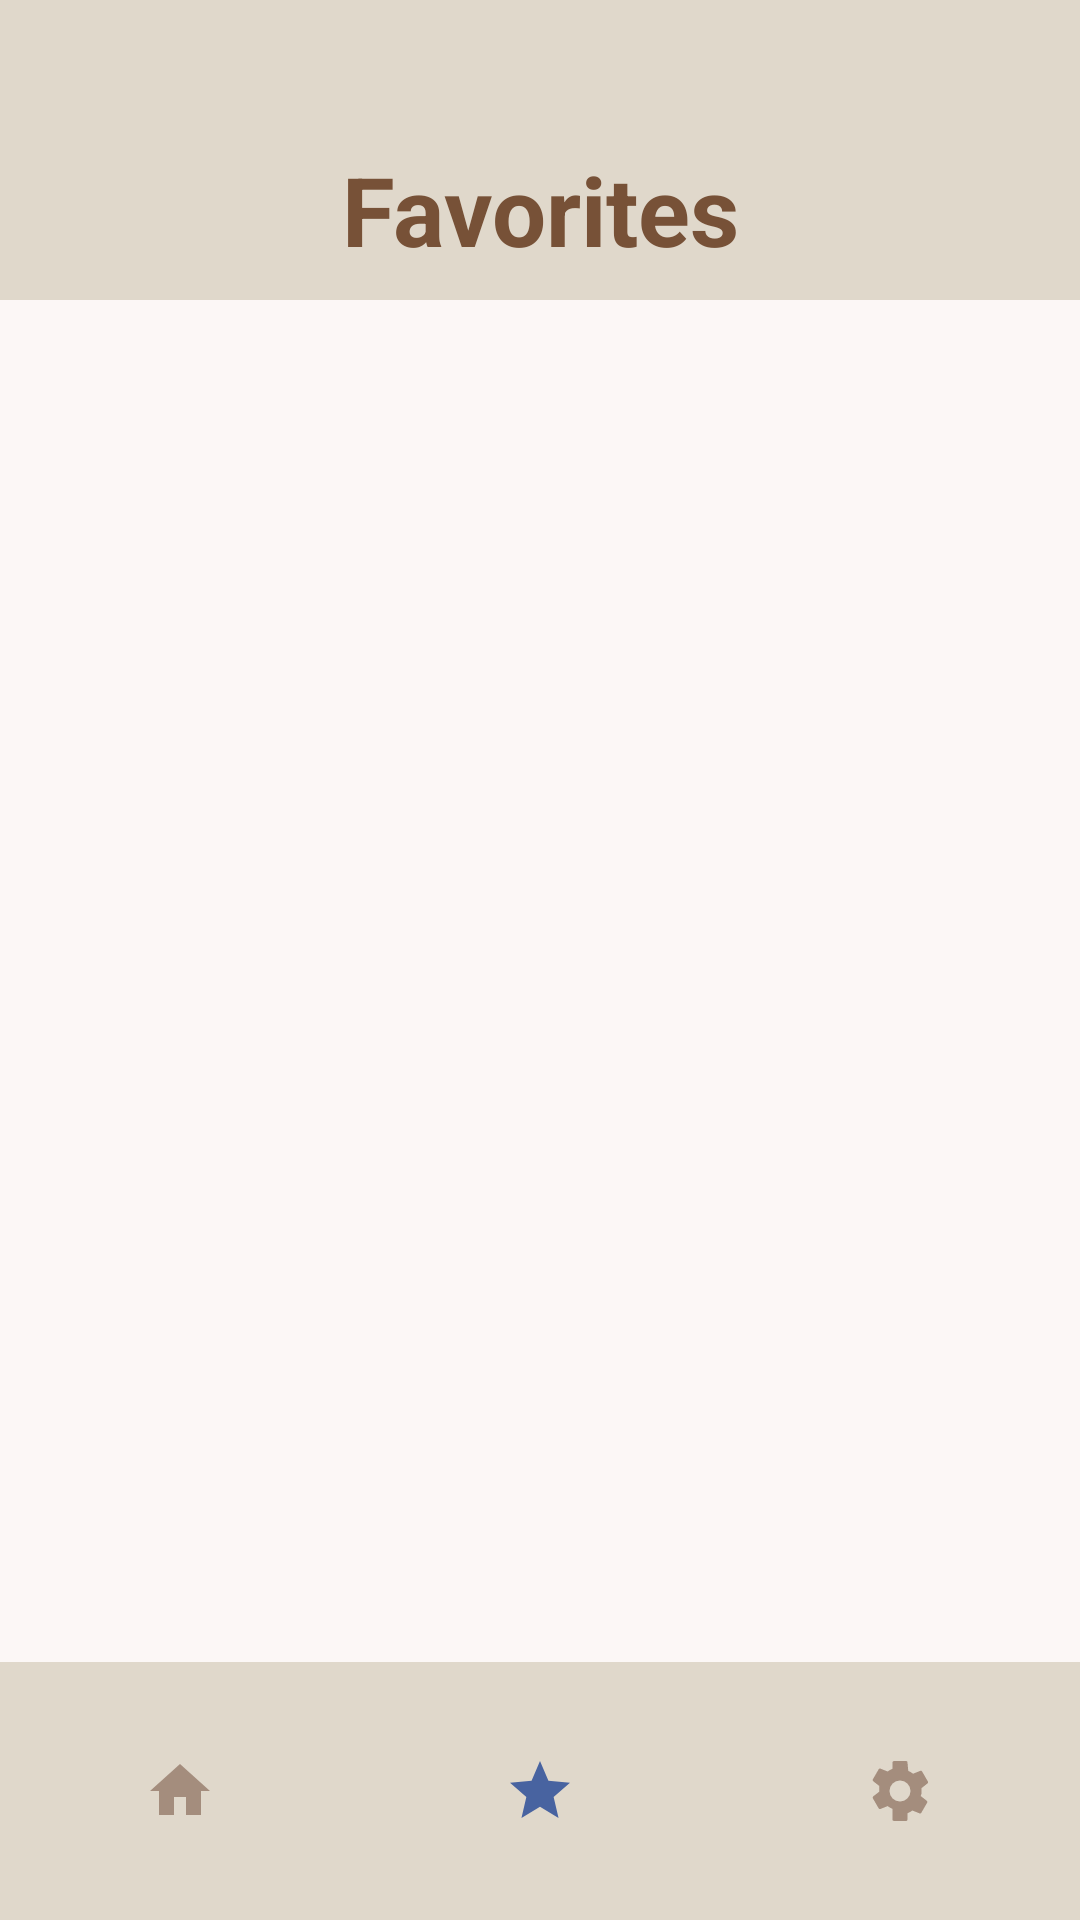

Icons on this 1080*1920 Android screen, each with the point to tap as (x,y):
Favorites: (540,1789)
Home: (180,1789)
Settings: (900,1791)
